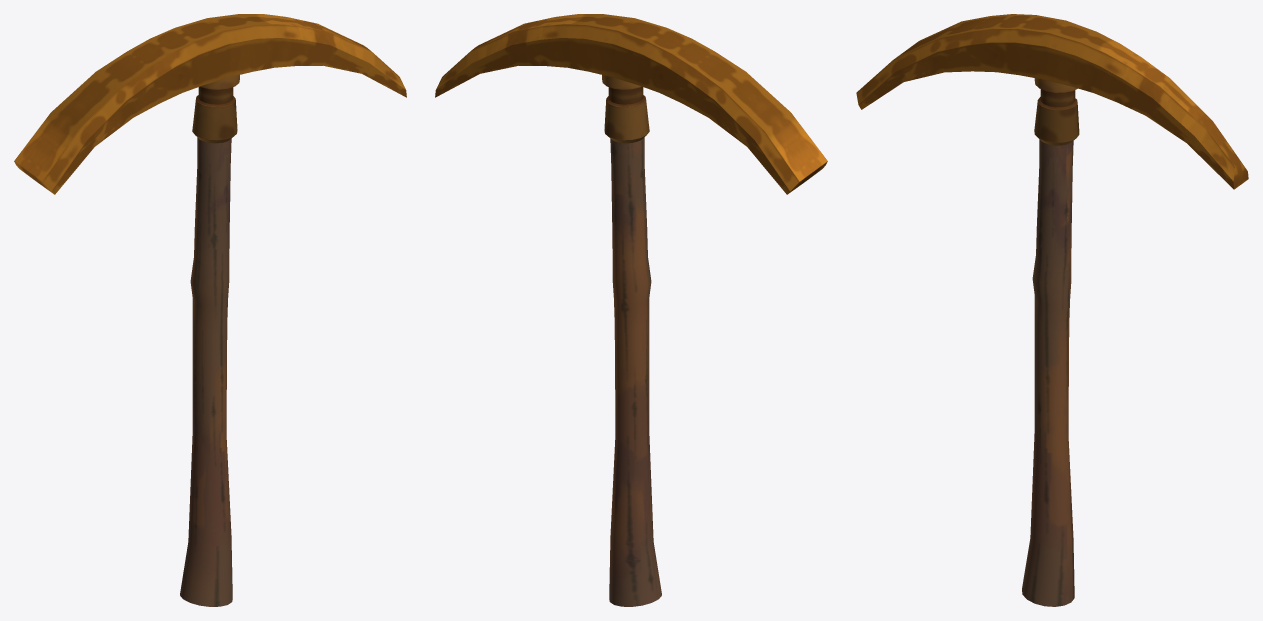
The model's file is pickaxe_bronze.gltf.
3 views of the same model, side by side, from view 1: azimuth 30°, elevation 25°; view 2: azimuth 150°, elevation 25°; view 3: azimuth 330°, elevation 25° (orthographic).
Visible parts, largest first — view 1: Pickaxe_Bronze; view 2: Pickaxe_Bronze; view 3: Pickaxe_Bronze.
Boxes of the visible parts, left/top/right/bottom form: Pickaxe_Bronze: left=14, top=14, right=406, bottom=606; Pickaxe_Bronze: left=435, top=14, right=827, bottom=606; Pickaxe_Bronze: left=856, top=14, right=1248, bottom=606.
Size of the model in its own units: 0.8129 by 1.2 by 0.1357.
1 material, 1 textured.
